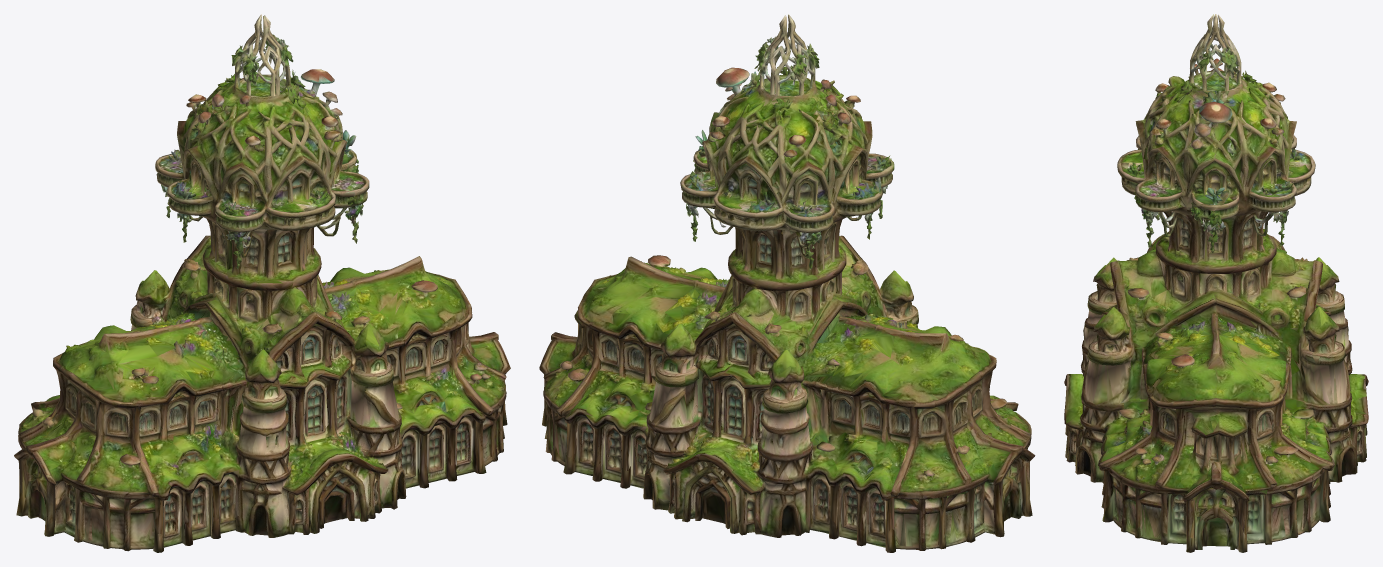
The model's file is Gardenspire_Citadel.glb.
3 renders of one model, left to right at view 1: azimuth 30°, elevation 25°; view 2: azimuth 150°, elevation 25°; view 3: azimuth 270°, elevation 25°, orthographic. The views are drawn at different scales.
Parts seen in each view (by area): view 1: Gardenspire_Citadel; view 2: Gardenspire_Citadel; view 3: Gardenspire_Citadel.
Boxes of the visible parts, x1=… form: Gardenspire_Citadel: x1=14, y1=14, x2=510, y2=552; Gardenspire_Citadel: x1=539, y1=14, x2=1035, y2=552; Gardenspire_Citadel: x1=1064, y1=14, x2=1368, y2=552.
Size of the model in its own units: 1.9 by 1.76 by 1.13.
Materials: 1 (1 with a texture image).
